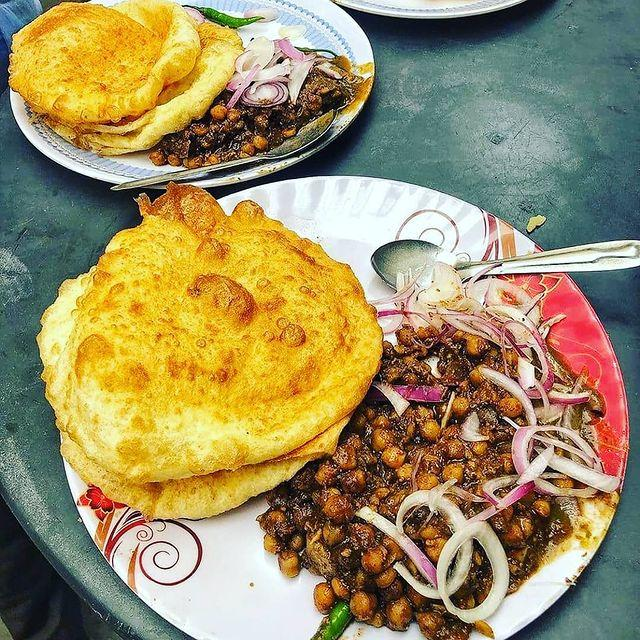Chole: (340, 391, 550, 618)
